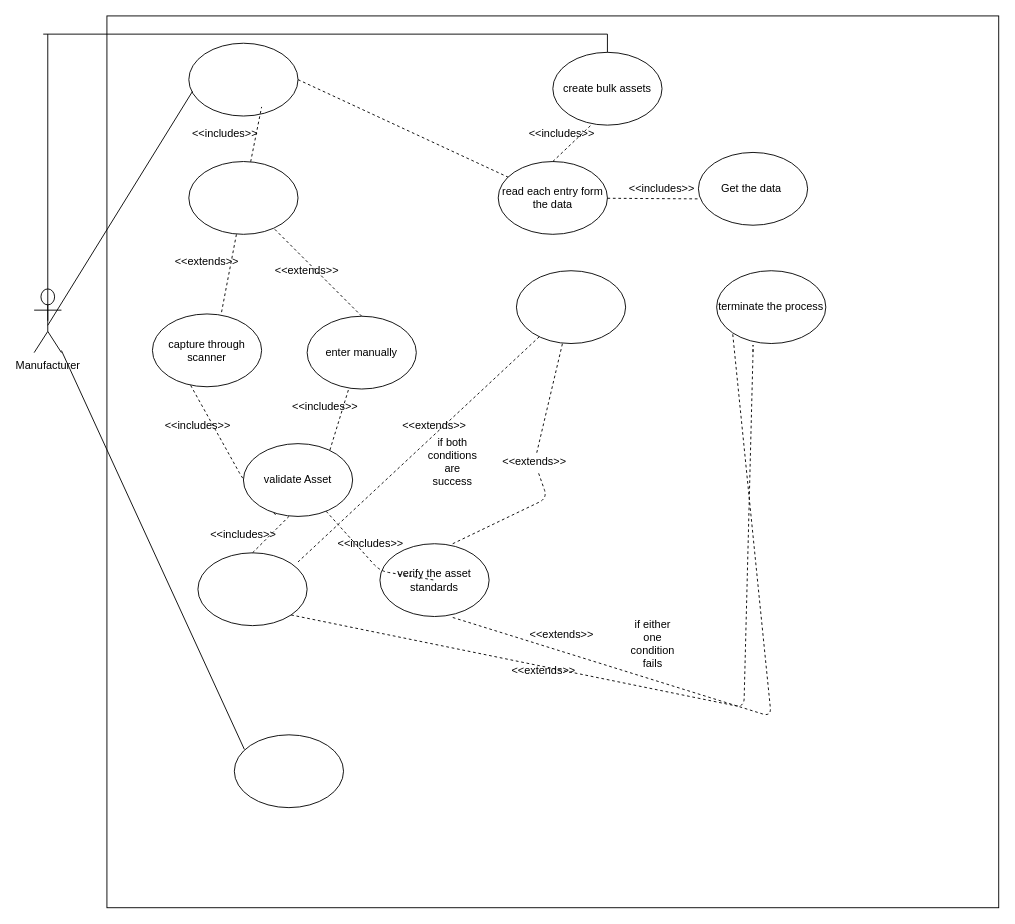
Some shapes in this 1015 by 924 pixel diagram are drawn without their labels. Here are the shapes that lost their labels. From the top down, the centre of each, then its label:
point 243,79: create Asset
point 243,197: capture the asset fields
point 571,307: Execute the create asset
point 252,589: check if asset already exists
point 288,771: Login
